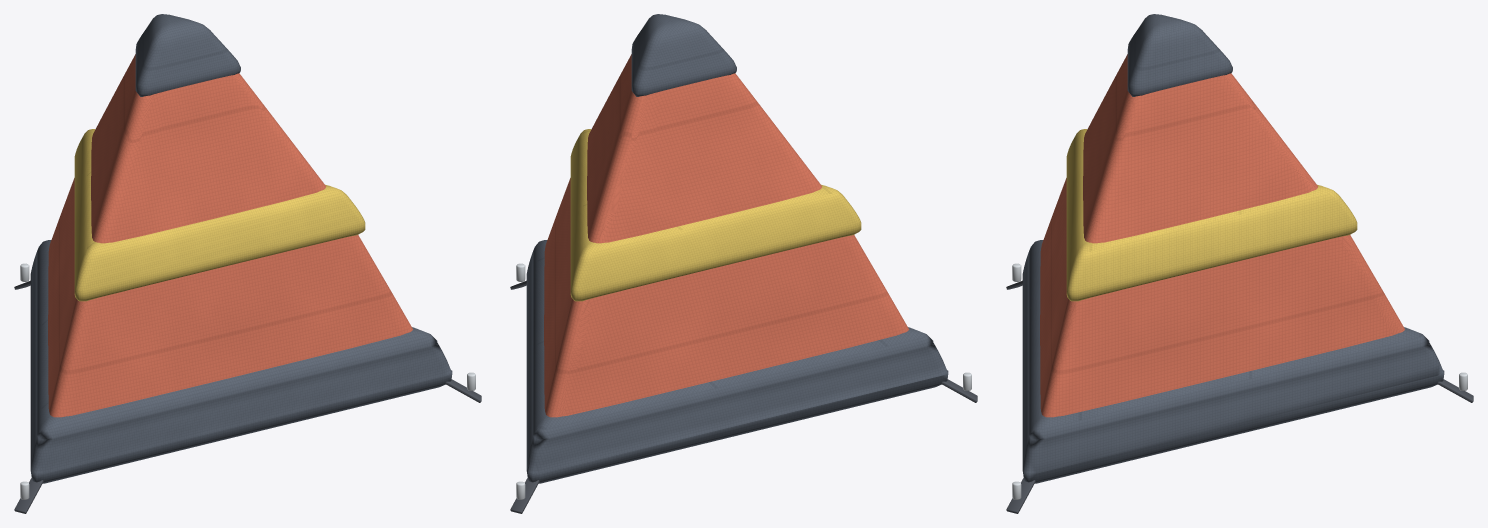
File: bunker_dorito_red.glb
3 renders of one model, left to right at view 1: azimuth 30°, elevation 25°; view 2: azimuth 150°, elevation 25°; view 3: azimuth 270°, elevation 25°, orthographic.
Parts seen in each view (by area): view 1: DoritoBody, DoritoBaseSkirt, DoritoStripeBand, DoritoTopCap; view 2: DoritoBody, DoritoBaseSkirt, DoritoStripeBand, DoritoTopCap; view 3: DoritoBody, DoritoBaseSkirt, DoritoStripeBand, DoritoTopCap.
Part boxes in pixels (<box>): DoritoBody: <box>48,54,412,417</box>; DoritoBaseSkirt: <box>30,240,452,483</box>; DoritoStripeBand: <box>74,129,365,301</box>; DoritoTopCap: <box>135,14,240,96</box>; DoritoBody: <box>544,54,908,417</box>; DoritoBaseSkirt: <box>526,240,948,483</box>; DoritoStripeBand: <box>570,129,861,301</box>; DoritoTopCap: <box>631,14,736,96</box>; DoritoBody: <box>1040,54,1404,417</box>; DoritoBaseSkirt: <box>1022,240,1444,483</box>; DoritoStripeBand: <box>1066,129,1357,301</box>; DoritoTopCap: <box>1127,14,1232,96</box>.
Size of the model in its own units: 2.83 by 2.2 by 2.45.
Materials: 5 (3 with a texture image).
